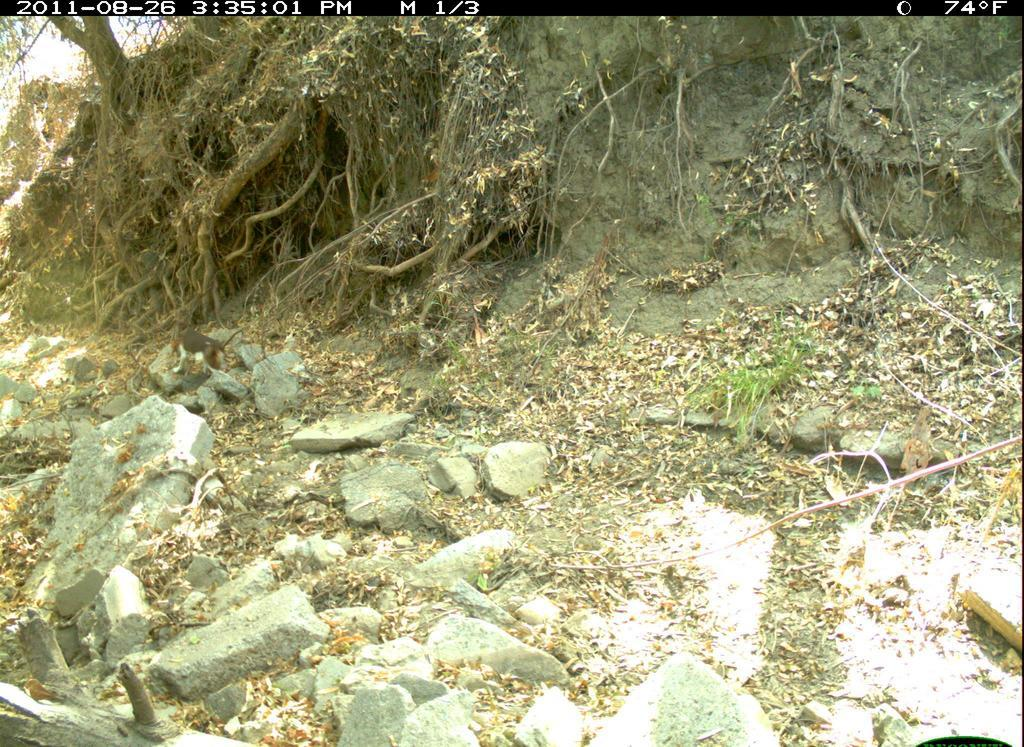dog: (176, 308, 251, 390)
